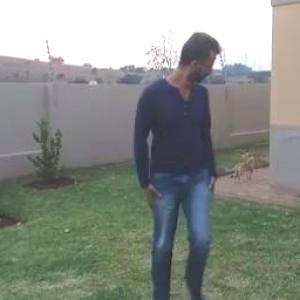follow: (130, 26, 229, 299)
